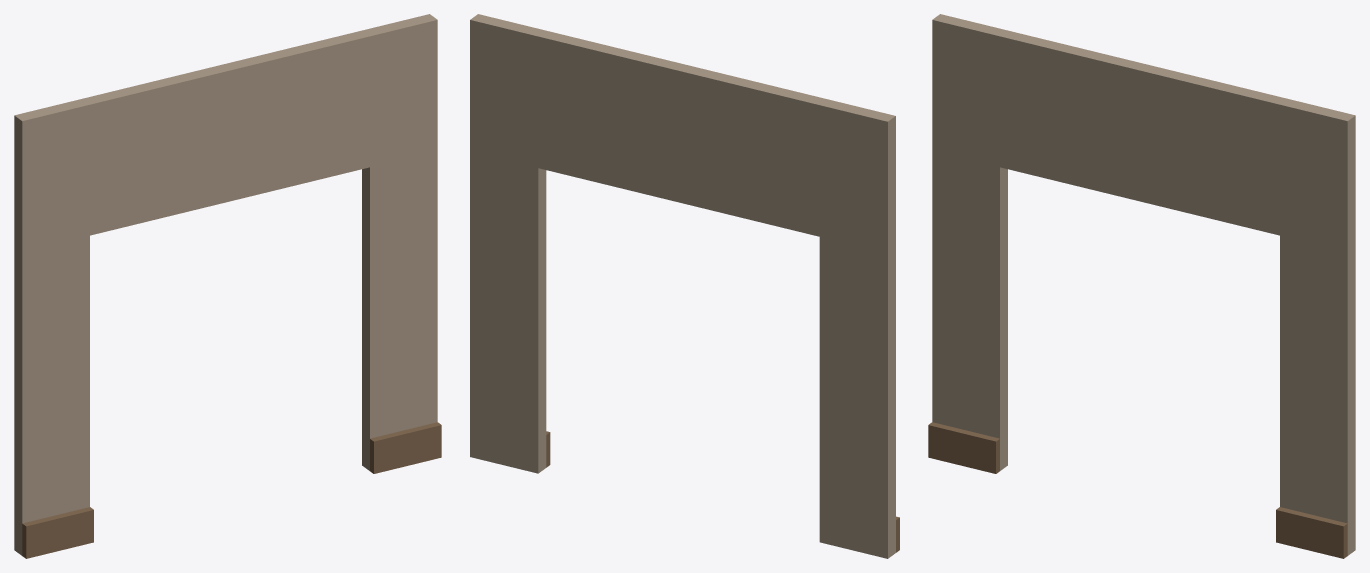
Rendered from Mesh_WallBaseboard_B4.fbx.
The picture shows the model from 3 angles, left to right: view 1: azimuth 30°, elevation 25°; view 2: azimuth 150°, elevation 25°; view 3: azimuth 330°, elevation 25°; orthographic projection.
Parts seen in each view (by area): view 1: Mesh_WallBaseboard_B4; view 2: Mesh_WallBaseboard_B4; view 3: Mesh_WallBaseboard_B4.
Part boxes in pixels (<box>): Mesh_WallBaseboard_B4: <box>14,14,441,558</box>; Mesh_WallBaseboard_B4: <box>470,14,899,558</box>; Mesh_WallBaseboard_B4: <box>928,14,1355,558</box>.
Bounding box in the file's own units: 3 × 3 × 0.15.
